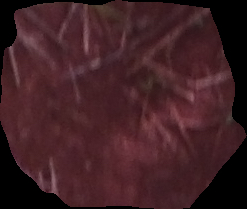soil: (1, 1, 246, 208)
